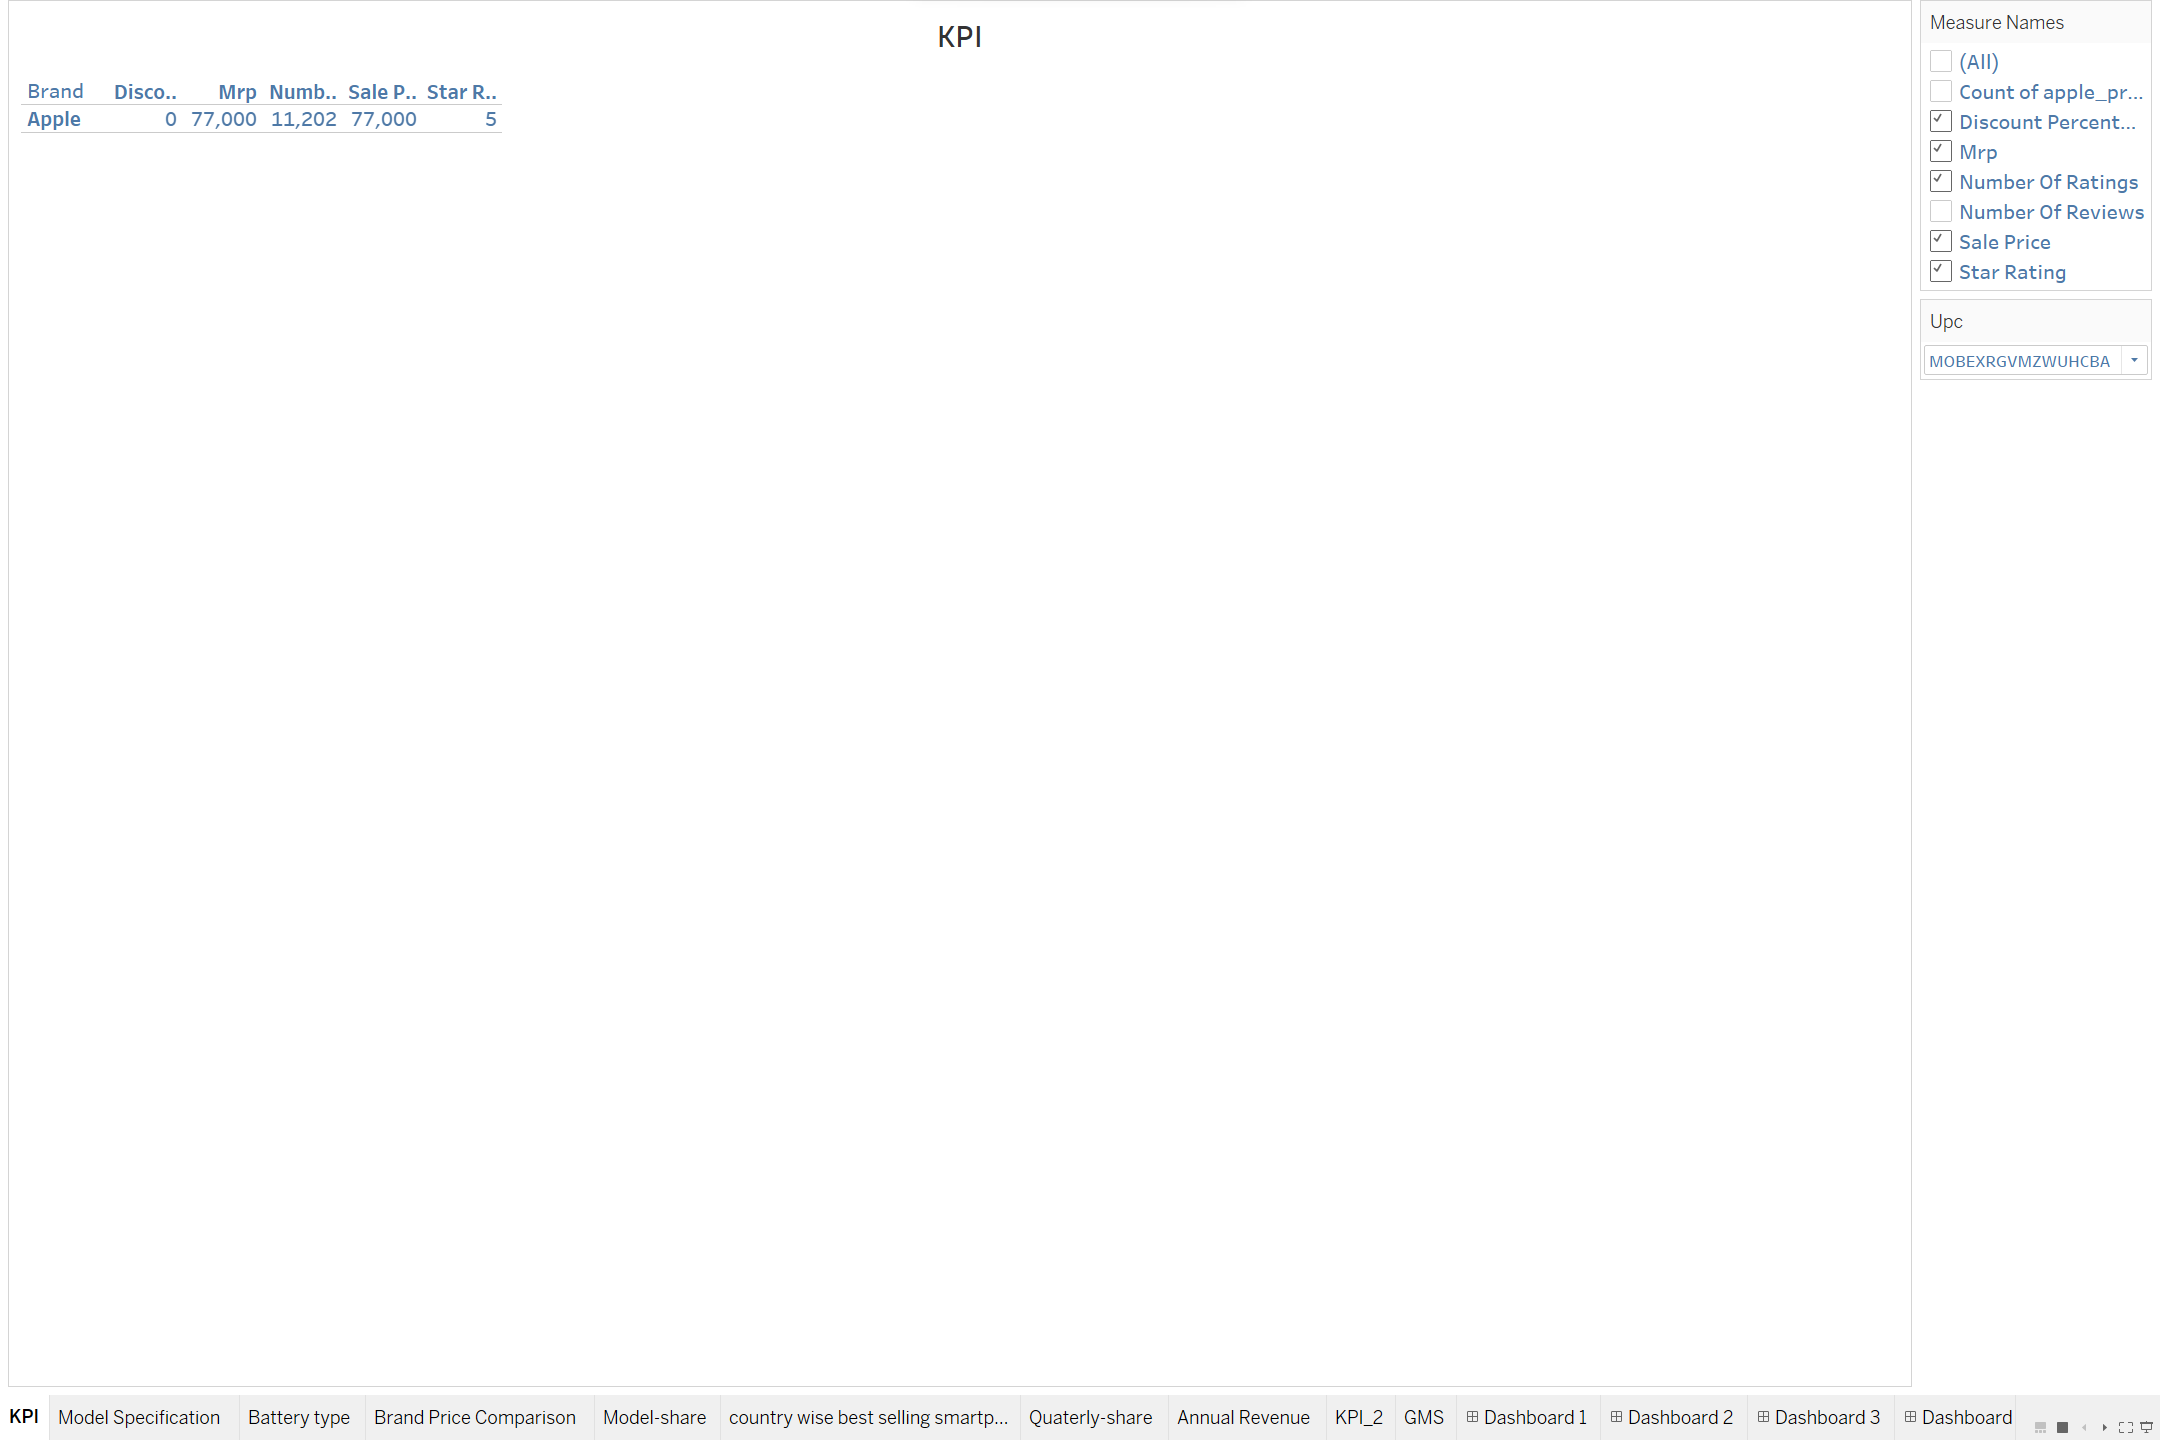

The page's visual inventory and layout, read from the dashboard file:
{"tool":"tableau","page":{"name":"Dashboard 1","canvas":[1000,1000],"units":"permille","ordinal":0},"visuals":[{"type":"worksheet","title":"KPI","mark":"Automatic","rows":["Brand"],"box":[3.7,6.2,569.5,295.4]},{"type":"blank","box":[573.1,6.2,423.2,24.8]},{"type":"filter","title":"KPI","param":"[federated.1lhbrvm0p3k8am1gcjjid1nfxdao].[none:Upc:nk]","box":[573.1,31,423.2,55.9]},{"type":"legend","title":"Model Specification","param":"[federated.0iqjv8w0qiwri211vwyue11ahui3].[none:colour:nk]","box":[573.1,86.9,423.2,65.2]},{"type":"dashboard-object","box":[573.1,152.1,423.2,40.3]},{"type":"worksheet","title":"Model Specification","mark":"Automatic","rows":["model","processor","front_camera","rear_camera","colour"],"box":[3.7,301.6,569.5,692.2]}]}

Visuals, with their boxes on the dashboard's canvas, which has no fixed pixel size, in thousandths of its width and height (x1, y1, x2, y2). These are canvas units, not pixel positions in the 2160x1440 screenshot, which may show the page scaled, cropped or inside an application window:
"KPI" worksheet: <bbox>4, 6, 573, 302</bbox>
blank: <bbox>573, 6, 996, 31</bbox>
"KPI" filter: <bbox>573, 31, 996, 87</bbox>
"Model Specification" legend: <bbox>573, 87, 996, 152</bbox>
dashboard-object: <bbox>573, 152, 996, 192</bbox>
"Model Specification" worksheet: <bbox>4, 302, 573, 994</bbox>
